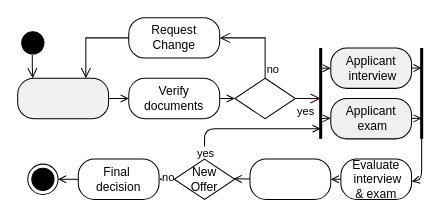
This 447x218 diagram has some shape labels left out. The centre of each missing label's shape, as x and y in pixels:
Applicant submits: (x=63, y=98)
Communicate decision: (x=290, y=178)
Doc. OK: (x=264, y=98)
